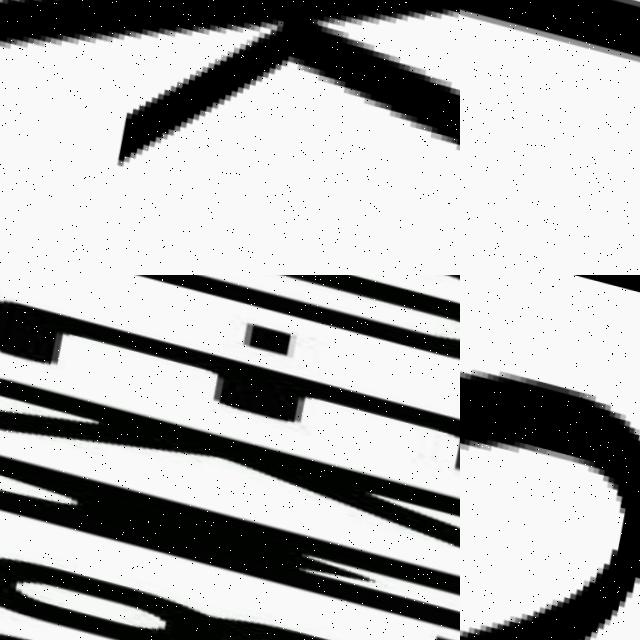0: (460, 275, 640, 640)
8: (0, 537, 460, 640)
D: (0, 275, 460, 379)
E: (0, 290, 460, 479)
G: (0, 608, 455, 640)
K: (0, 0, 460, 247), (0, 368, 460, 568)
M: (0, 442, 460, 636)
T: (460, 0, 640, 163)
